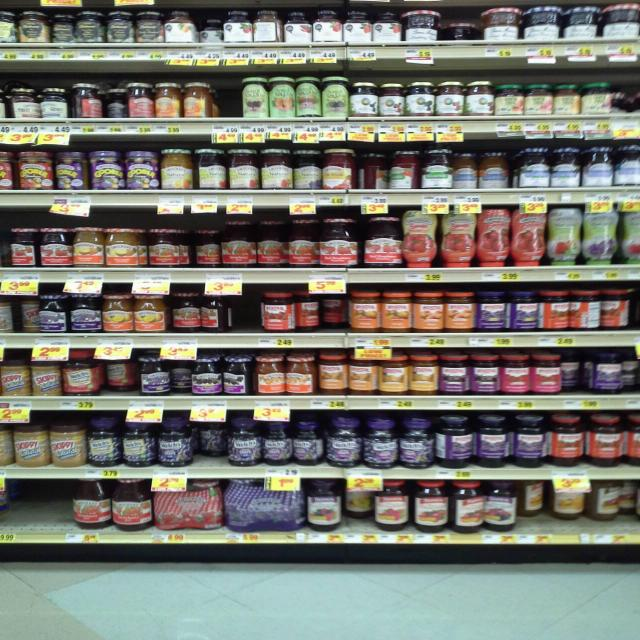empty: (9, 482, 70, 526), (217, 80, 241, 117), (232, 296, 258, 330)
